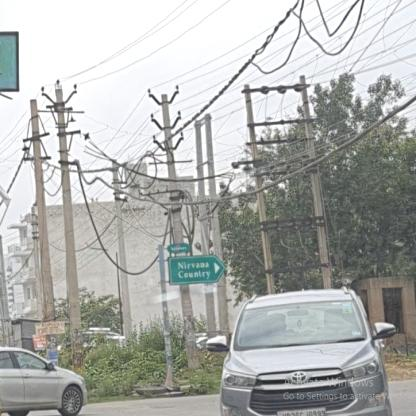car: (206, 290, 400, 416), (0, 347, 90, 415)
